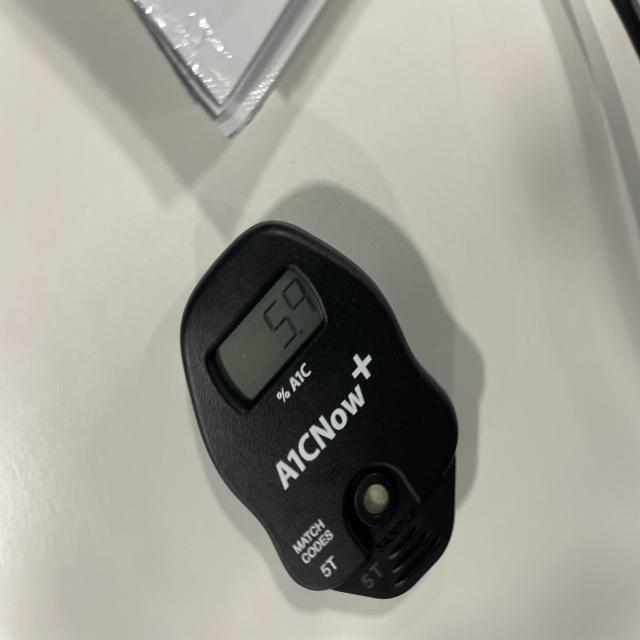hba1c: (179, 222, 460, 603)
